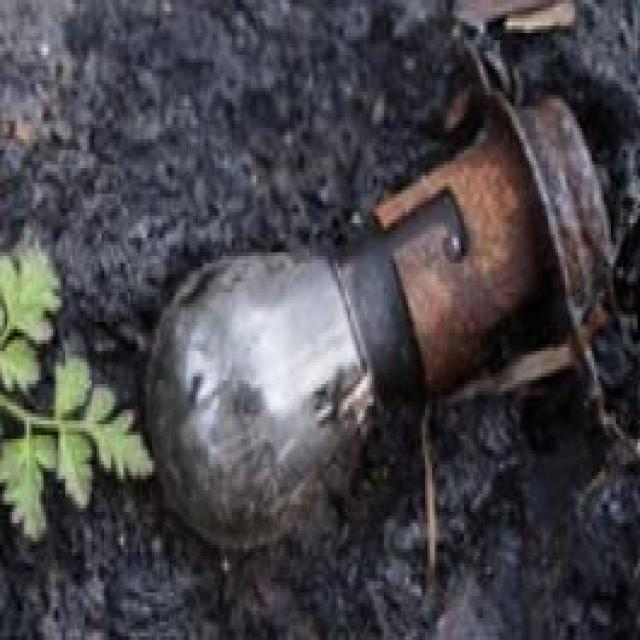electronic: (140, 110, 548, 556), (142, 245, 377, 552)
